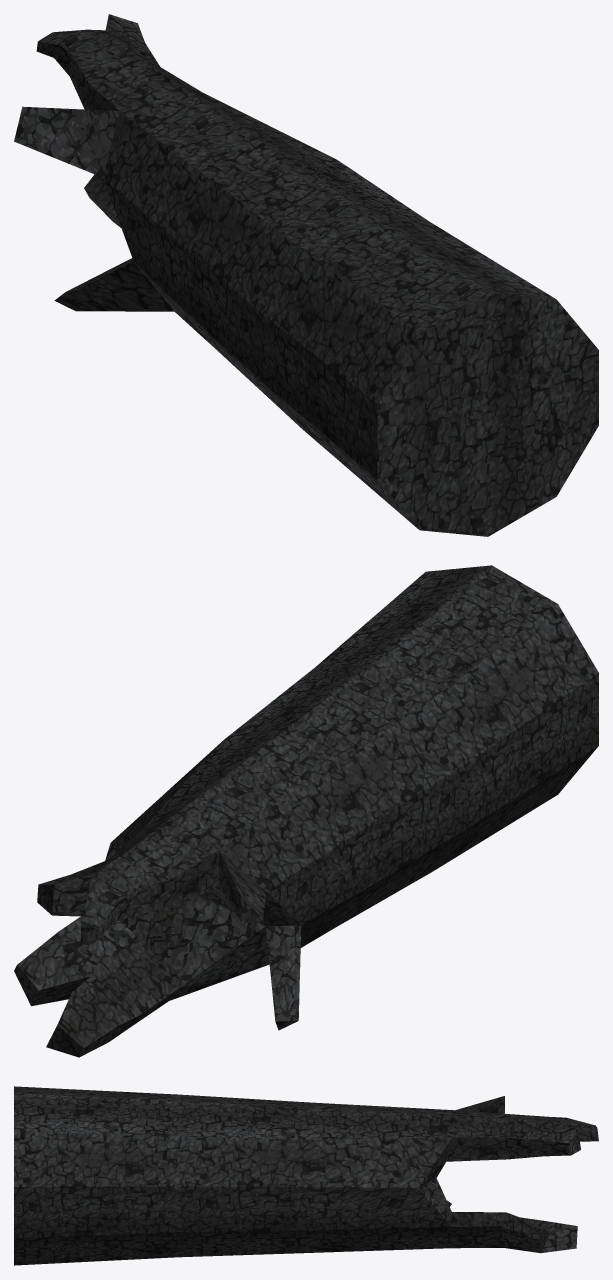
The model's file is Tree Debris Stump.fbx.
3 views of the same model, one above another, from view 1: azimuth 30°, elevation 25°; view 2: azimuth 150°, elevation 25°; view 3: azimuth 270°, elevation 25° (orthographic). The views are drawn at different scales.
Parts seen in each view (by area): view 1: Cylinder; view 2: Cylinder; view 3: Cylinder.
Boxes of the visible parts, x1,y1,x2,y2 form: Cylinder: [14, 14, 598, 536]; Cylinder: [14, 565, 598, 1057]; Cylinder: [14, 1086, 598, 1265].
Size of the model in its own units: 245 by 250 by 800.
1 material, 1 textured.
